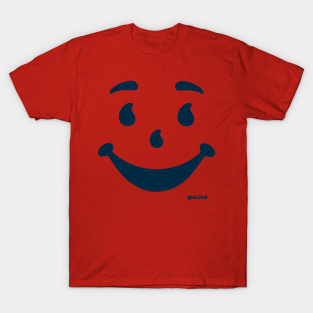design: (95, 78, 218, 202)
